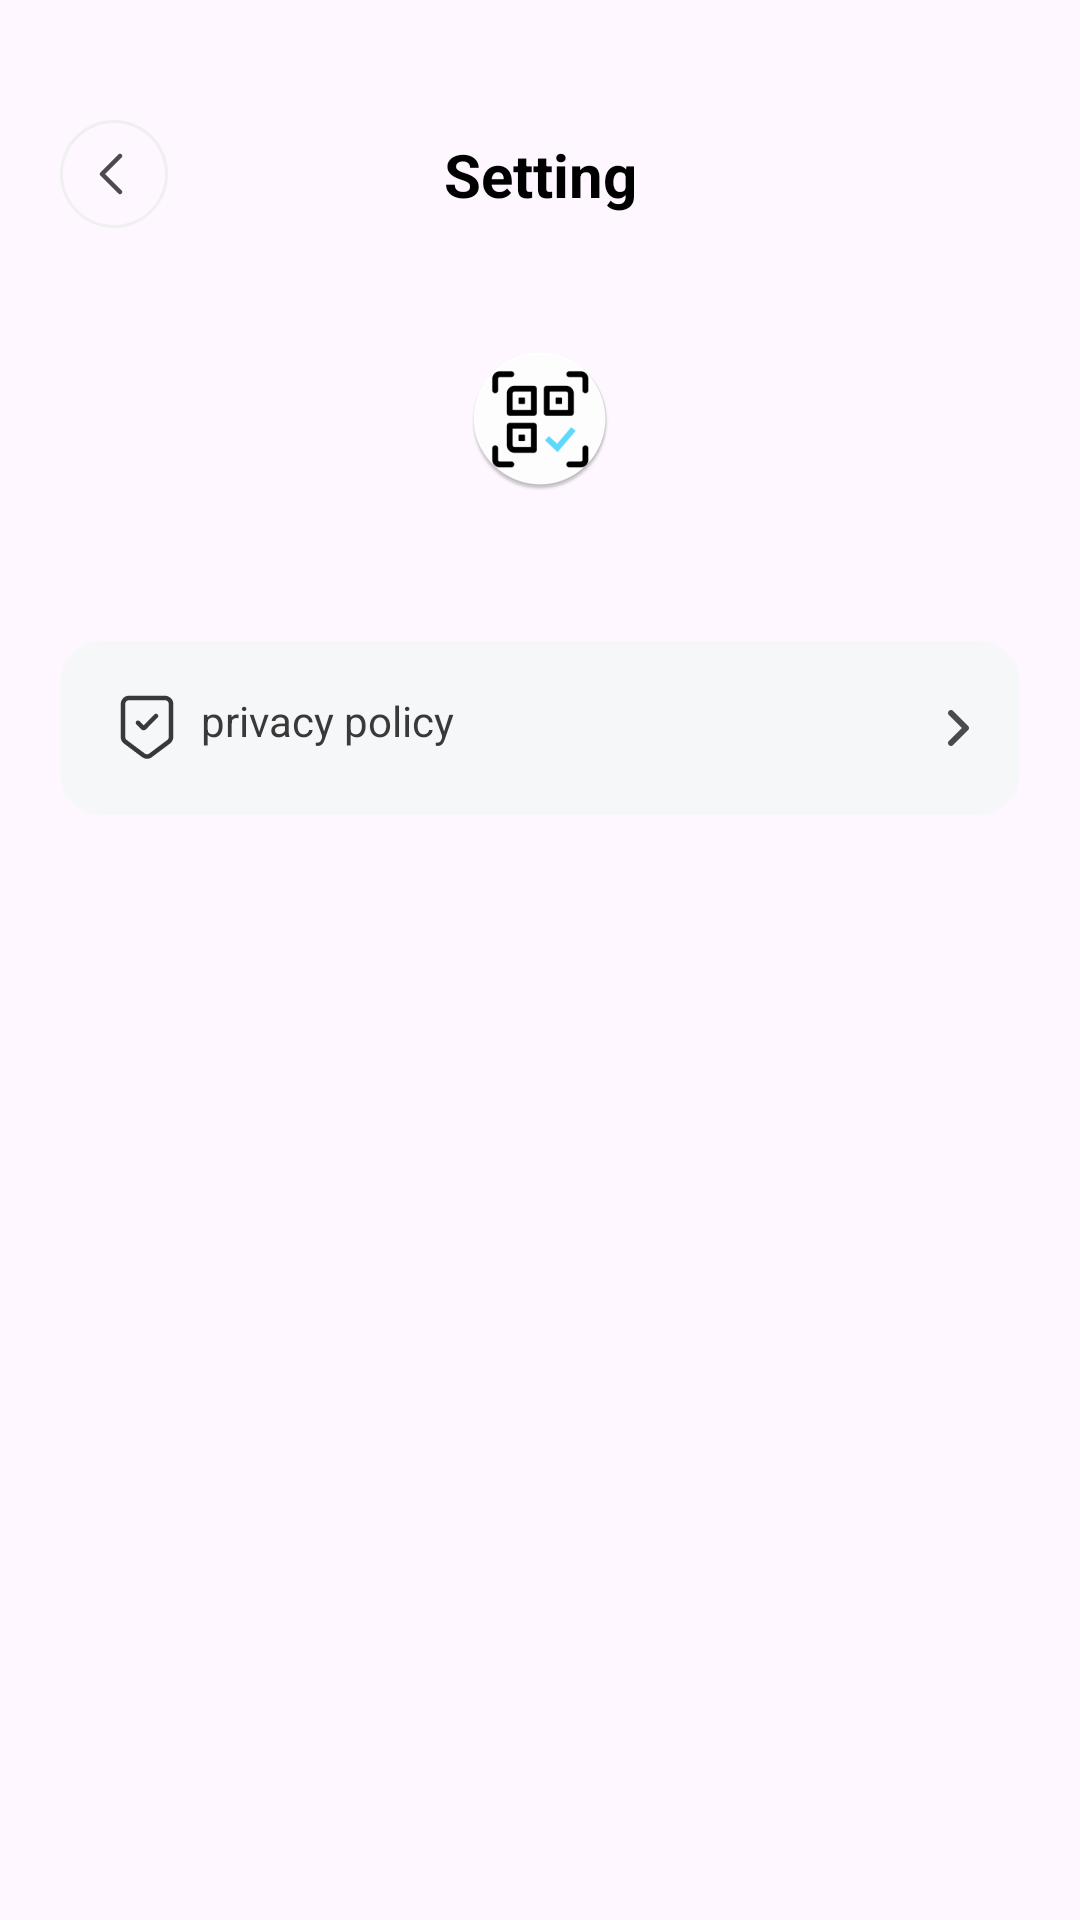

Icons on this 1080 x 1920 Android screen, each with its box as Rect(x1, y1, x2, y2):
back: Rect(99, 153, 123, 195)
